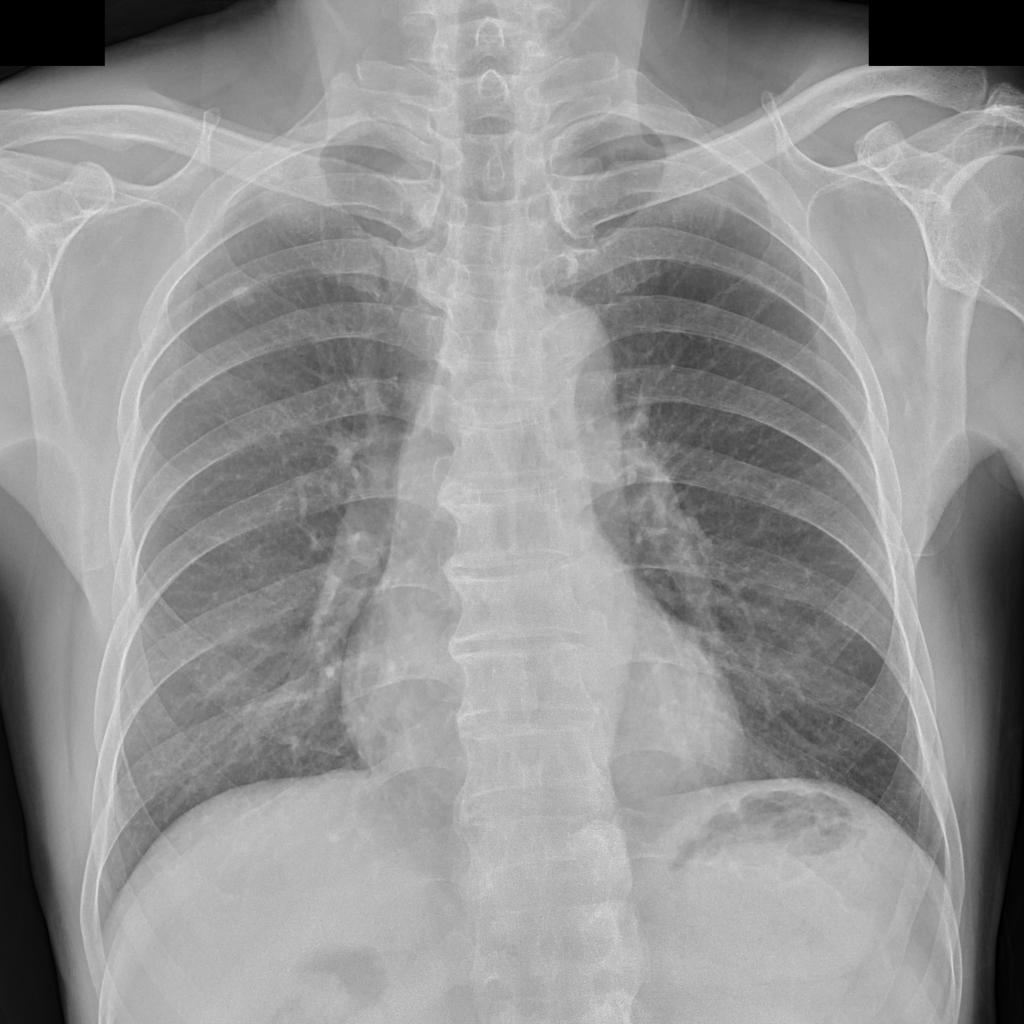Nodule: (234, 281, 257, 311)
